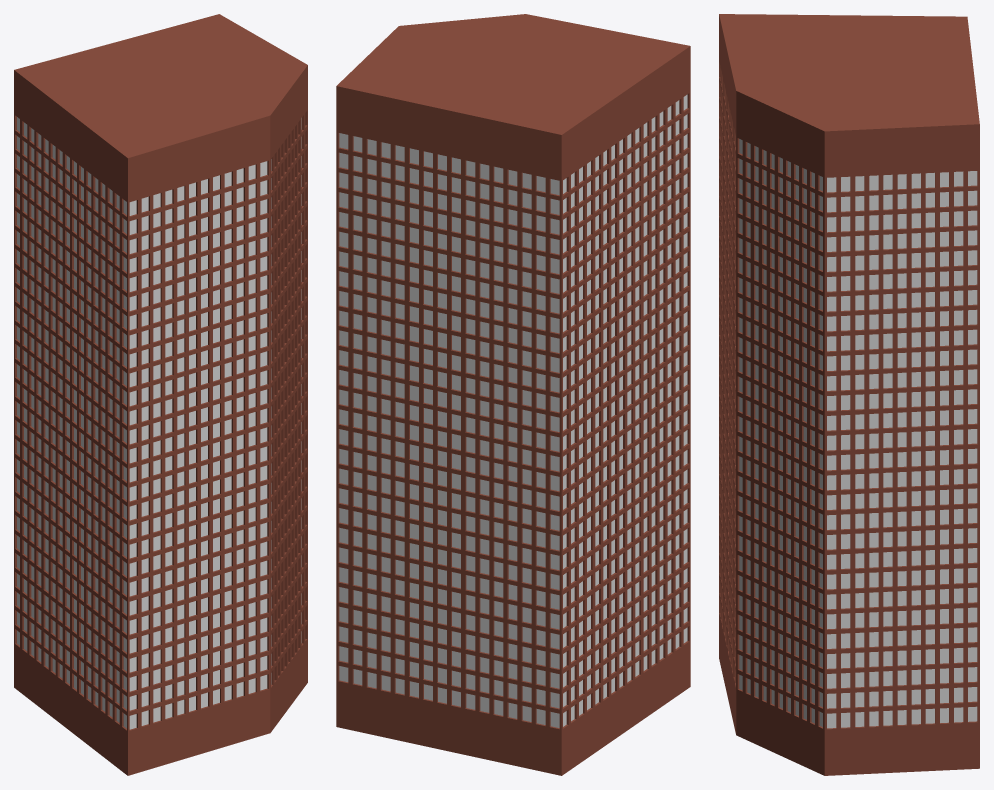
File: BlackwoodTower.fbx
3 renders of one model, left to right at view 1: azimuth 30°, elevation 25°; view 2: azimuth 150°, elevation 25°; view 3: azimuth 270°, elevation 25°, orthographic. The views are drawn at different scales.
Parts seen in each view (by area): view 1: BlackwoodTower; view 2: BlackwoodTower; view 3: BlackwoodTower.
Part boxes in pixels (<box>): BlackwoodTower: <box>14,14,307,775</box>; BlackwoodTower: <box>336,14,690,775</box>; BlackwoodTower: <box>719,14,979,775</box>.
Bounding box in the file's own units: 4830 × 12361 × 4533.
